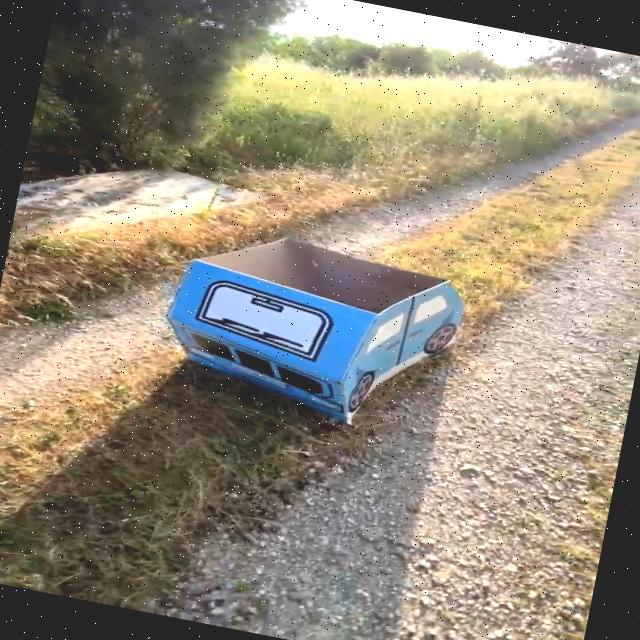blue_car: (126, 182, 490, 453)
